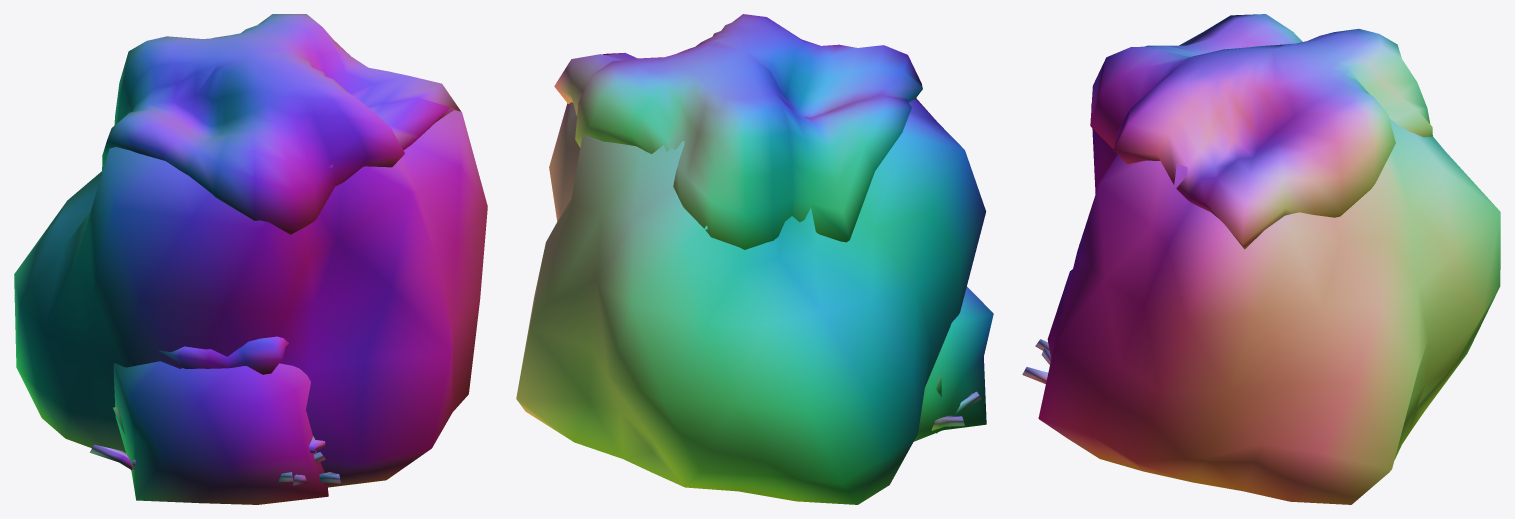
Rendered from SM_Outcrop_Plains_V4.fbx.
3 renders of one model, left to right at view 1: azimuth 30°, elevation 25°; view 2: azimuth 150°, elevation 25°; view 3: azimuth 270°, elevation 25°, orthographic. The views are drawn at different scales.
Parts seen in each view (by area): view 1: SM_Outcrop_Plains_V4; view 2: SM_Outcrop_Plains_V4; view 3: SM_Outcrop_Plains_V4.
Boxes of the visible parts, x1=… form: SM_Outcrop_Plains_V4: x1=14, y1=14, x2=487, y2=504; SM_Outcrop_Plains_V4: x1=516, y1=14, x2=993, y2=504; SM_Outcrop_Plains_V4: x1=1022, y1=14, x2=1500, y2=504.
Size of the model in its own units: 1.57 by 1.42 by 1.66.
